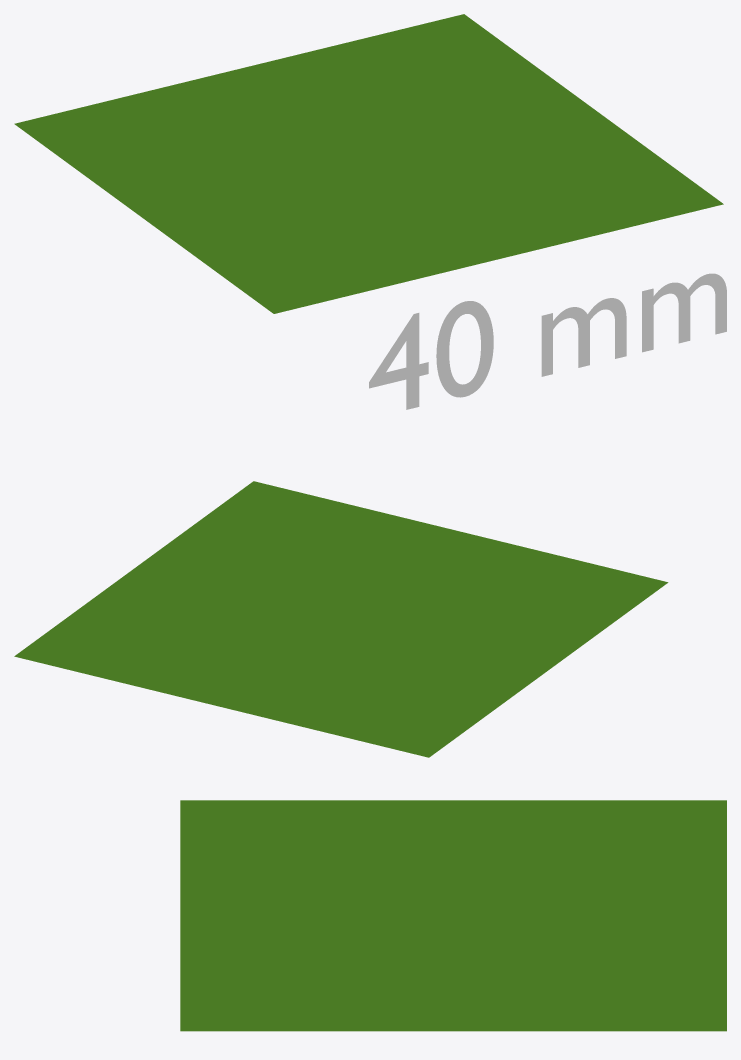
The picture shows the model from 3 angles, top to bottom: view 1: azimuth 30°, elevation 25°; view 2: azimuth 150°, elevation 25°; view 3: azimuth 270°, elevation 25°; orthographic projection. The views are drawn at different scales.
Parts seen in each view (by area): view 1: Plane.004, Text.004; view 2: Plane.004; view 3: Plane.004.
Part boxes in pixels (box(x1,y1,x2,y2)): Plane.004: box(14, 14, 723, 313); Text.004: box(369, 273, 726, 409); Plane.004: box(14, 481, 668, 757); Plane.004: box(180, 800, 726, 1031).
Size of the model in its own units: 2 by 0.405 by 2.61.
